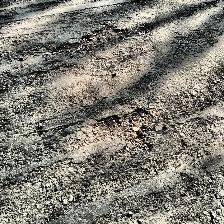pothole: (95, 106, 157, 152), (52, 22, 130, 58)
